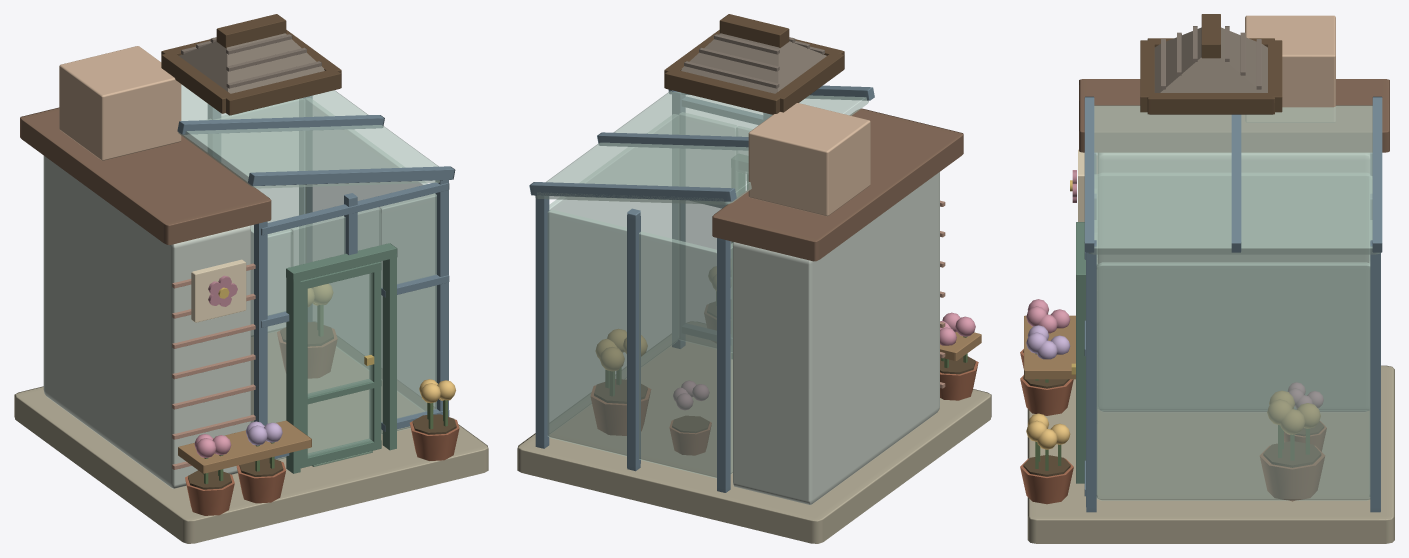
File: florist-2.glb
3 renders of one model, left to right at view 1: azimuth 30°, elevation 25°; view 2: azimuth 150°, elevation 25°; view 3: azimuth 270°, elevation 25°, orthographic. The views are drawn at different scales.
Visible parts, largest first — view 1: florist-2-0, door-hinge; view 2: florist-2-0; view 3: florist-2-0.
Boxes of the visible parts, bbox=[...] form: florist-2-0: bbox=[14, 14, 488, 543]; door-hinge: bbox=[300, 261, 381, 468]; florist-2-0: bbox=[517, 14, 991, 543]; florist-2-0: bbox=[1020, 14, 1394, 543].
Bounding box in the file's own units: 1.9 × 2.5 × 1.94.
